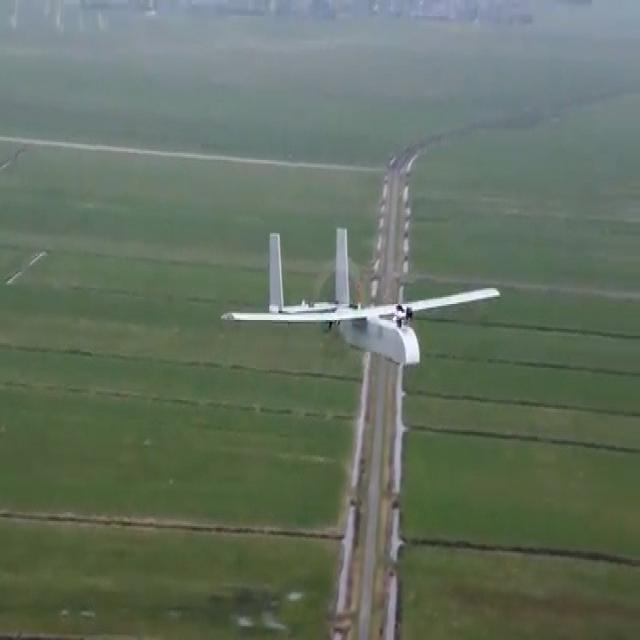drones: (214, 218, 506, 375)
